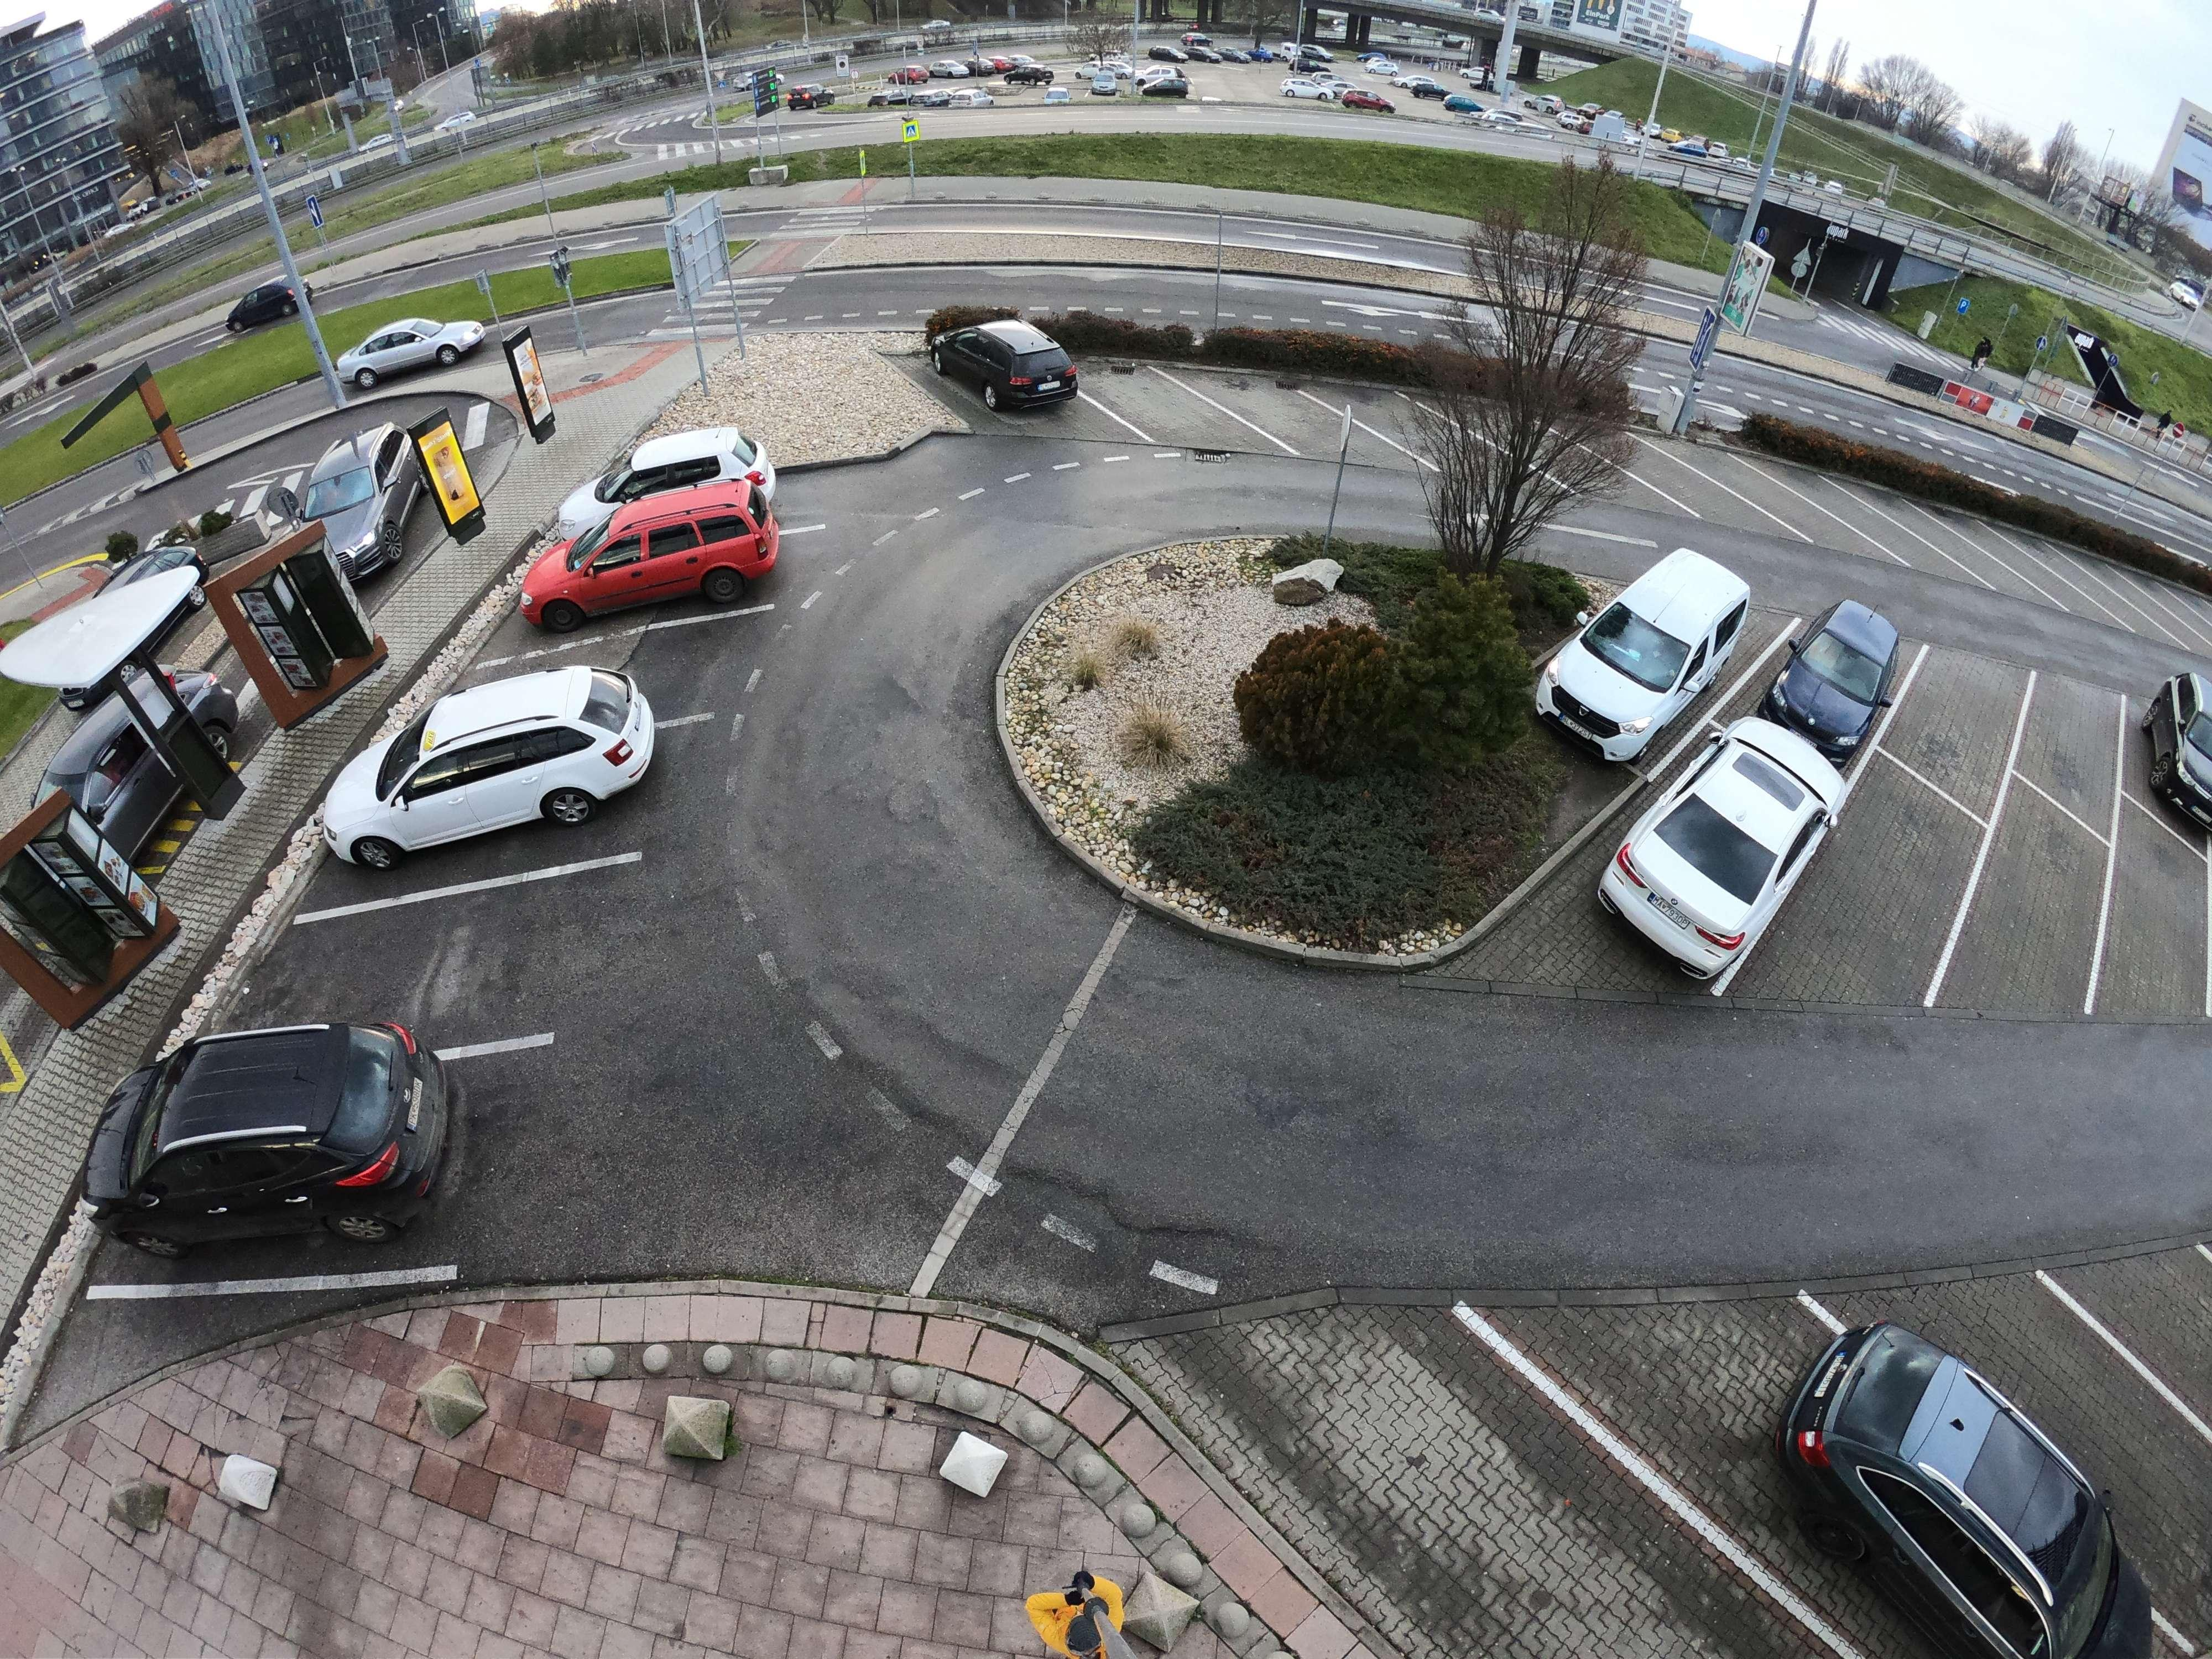empty: (1768, 1297, 2135, 1659), (117, 1025, 446, 1255), (1602, 708, 1848, 976), (307, 685, 653, 856), (1533, 552, 1757, 756), (526, 509, 786, 626), (564, 425, 775, 521), (1771, 615, 1897, 744), (937, 315, 1087, 416), (326, 314, 500, 392), (2144, 666, 2212, 826), (1092, 56, 1188, 106)
occupied: (1299, 1333, 1578, 1636), (1986, 1330, 2156, 1462), (1965, 836, 2102, 981), (1815, 819, 1963, 953), (308, 911, 491, 1014), (594, 608, 730, 716), (2106, 885, 2212, 1011), (2019, 683, 2135, 788), (1223, 359, 1327, 448), (1912, 681, 2001, 748), (1378, 390, 1468, 453), (1101, 376, 1204, 427), (1853, 509, 1916, 572), (1759, 481, 1820, 538), (1646, 457, 1712, 509)
